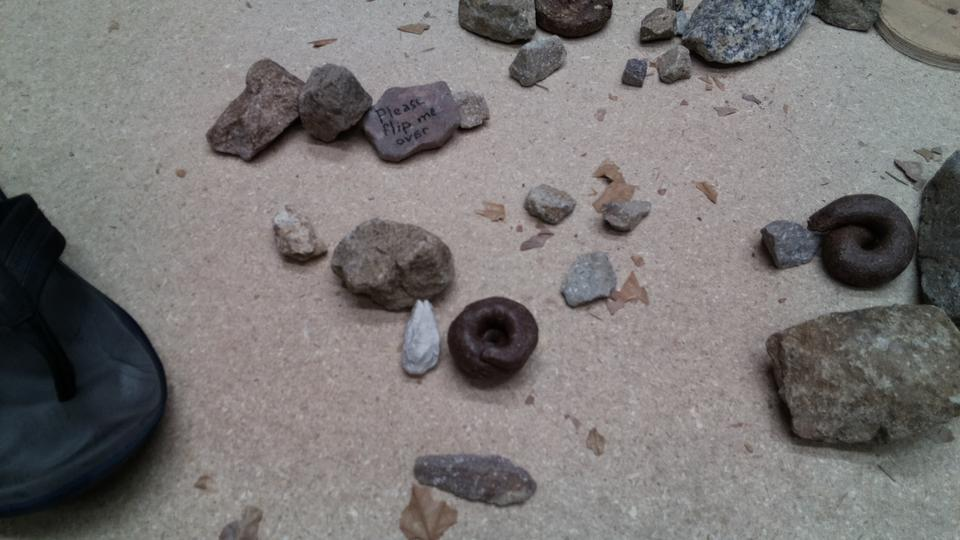poop: (807, 191, 919, 290), (447, 294, 539, 387), (532, 1, 614, 41)
